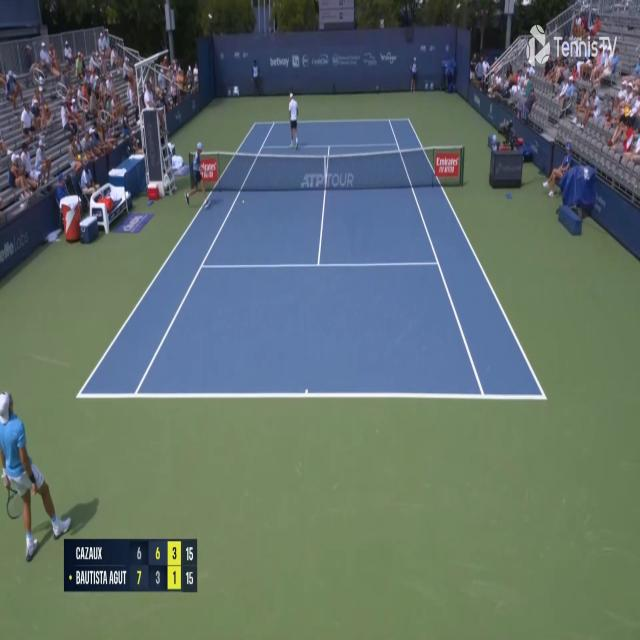tennis-player: (0, 388, 73, 566), (287, 89, 300, 150)
